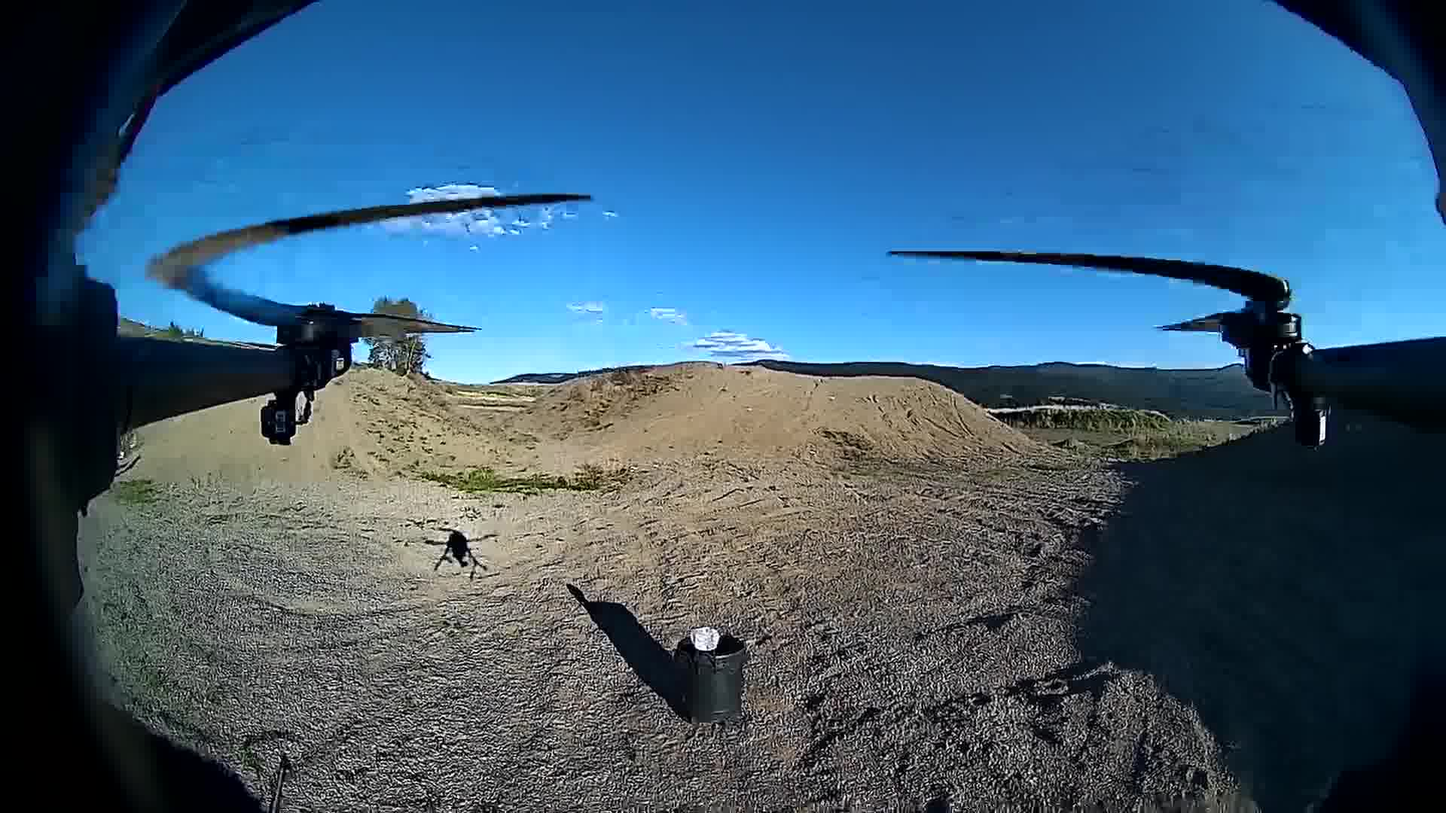Target: (689, 625, 723, 653)
